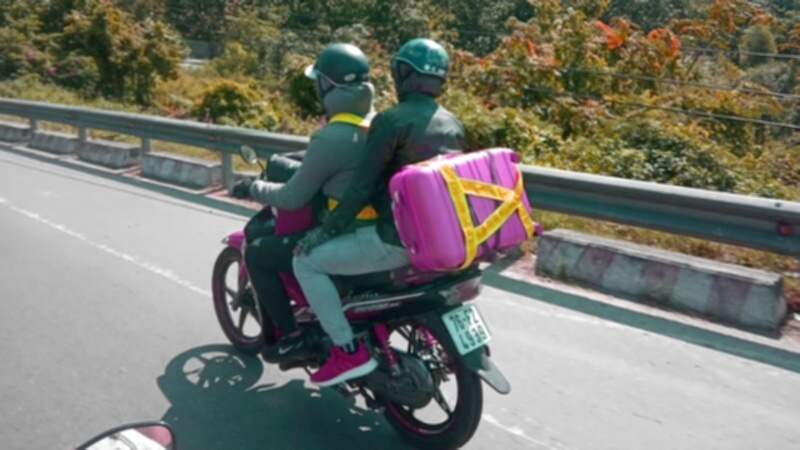Bien-so: (435, 289, 487, 348)
